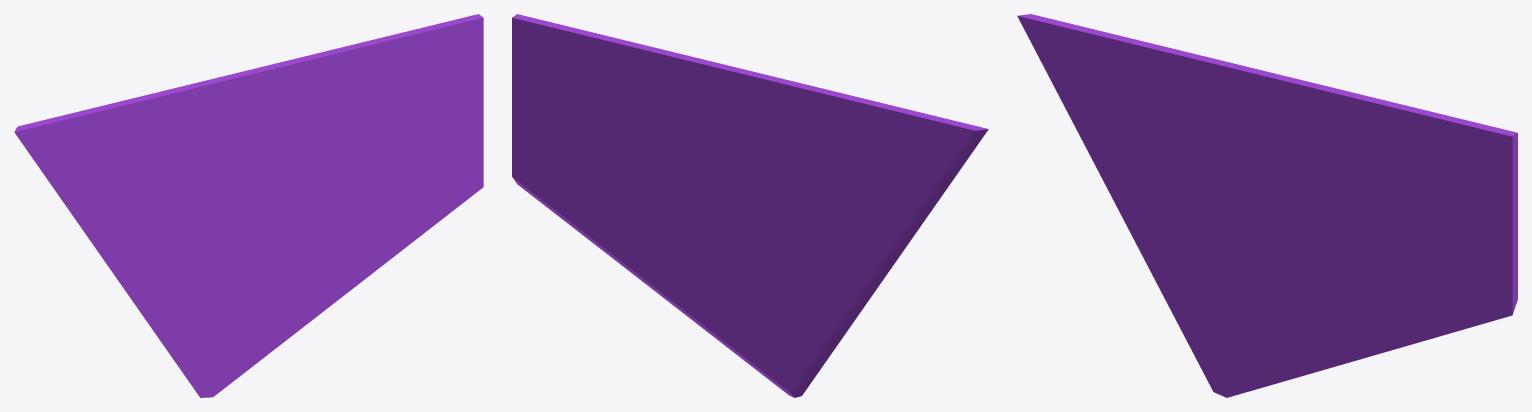
The model's file is Window_8_0_chunks.fbx.
The picture shows the model from 3 angles, left to right: view 1: azimuth 30°, elevation 25°; view 2: azimuth 150°, elevation 25°; view 3: azimuth 330°, elevation 25°; orthographic projection. The views are drawn at different scales.
Visible parts, largest first — view 1: Window_8_0_7, Window_8_0_12, Window_8_0_24, Window_8_0_9, Window_8_0_1, Window_8_0_15, Window_8_0_22, Window_8_0_19, Window_8_0_11, Window_8_0_4, Window_8_0_20, Window_8_0_21 (+15 smaller); view 2: Window_8_0_7, Window_8_0_12, Window_8_0_24, Window_8_0_20, Window_8_0_15, Window_8_0_9, Window_8_0_1, Window_8_0_11, Window_8_0_8, Window_8_0_4, Window_8_0_22, Window_8_0_21 (+13 smaller); view 3: Window_8_0_7, Window_8_0_12, Window_8_0_24, Window_8_0_9, Window_8_0_1, Window_8_0_15, Window_8_0_22, Window_8_0_19, Window_8_0_11, Window_8_0_4, Window_8_0_20, Window_8_0_21 (+15 smaller).
Part boxes in pixels (bbox=[...]): Window_8_0_7: bbox=[113, 81, 258, 204]; Window_8_0_12: bbox=[205, 54, 322, 180]; Window_8_0_24: bbox=[143, 249, 248, 381]; Window_8_0_9: bbox=[430, 14, 483, 165]; Window_8_0_1: bbox=[263, 156, 408, 223]; Window_8_0_15: bbox=[313, 30, 416, 130]; Window_8_0_22: bbox=[50, 103, 166, 194]; Window_8_0_19: bbox=[77, 192, 158, 315]; Window_8_0_11: bbox=[374, 24, 443, 167]; Window_8_0_4: bbox=[189, 307, 292, 397]; Window_8_0_20: bbox=[14, 117, 123, 221]; Window_8_0_21: bbox=[136, 169, 192, 284]; Window_8_0_7: bbox=[734, 81, 881, 210]; Window_8_0_12: bbox=[676, 54, 790, 181]; Window_8_0_24: bbox=[753, 254, 859, 379]; Window_8_0_20: bbox=[862, 120, 988, 230]; Window_8_0_15: bbox=[580, 30, 680, 135]; Window_8_0_9: bbox=[512, 14, 567, 173]; Window_8_0_1: bbox=[589, 156, 732, 224]; Window_8_0_11: bbox=[553, 23, 629, 165]; Window_8_0_8: bbox=[512, 132, 620, 206]; Window_8_0_4: bbox=[708, 308, 812, 397]; Window_8_0_22: bbox=[836, 103, 951, 189]; Window_8_0_21: bbox=[805, 168, 866, 289]; Window_8_0_7: bbox=[1129, 38, 1274, 193]; Window_8_0_12: bbox=[1224, 62, 1342, 193]; Window_8_0_24: bbox=[1153, 233, 1264, 368]; Window_8_0_9: bbox=[1456, 122, 1517, 298]; Window_8_0_1: bbox=[1280, 206, 1433, 295]; Window_8_0_15: bbox=[1340, 90, 1445, 198]; Window_8_0_22: bbox=[1055, 24, 1177, 144]; Window_8_0_19: bbox=[1084, 136, 1169, 275]; Window_8_0_11: bbox=[1397, 115, 1474, 241]; Window_8_0_4: bbox=[1202, 318, 1311, 397]; Window_8_0_20: bbox=[1017, 14, 1132, 143]; Window_8_0_21: bbox=[1146, 134, 1205, 250].
Size of the model in its own units: 1456 by 929 by 27.2.
